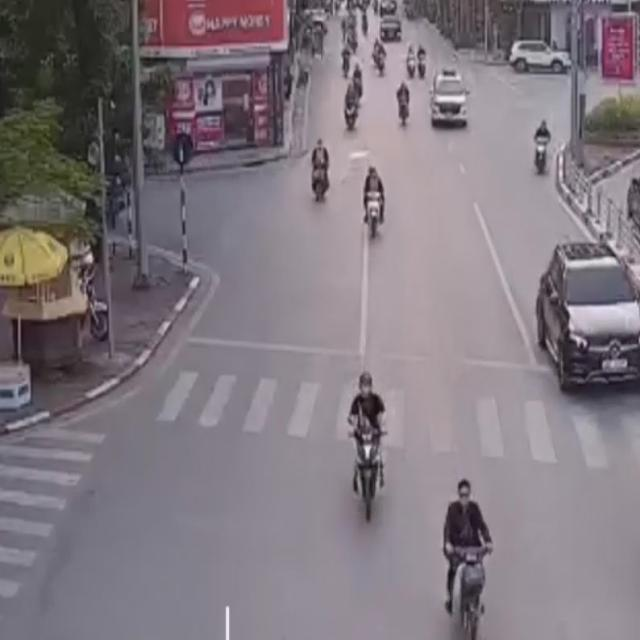car: (530, 238, 640, 398), (430, 67, 470, 130)
motorbike: (437, 475, 492, 640), (345, 370, 391, 534), (360, 160, 390, 245), (309, 131, 333, 208), (532, 114, 556, 174), (341, 82, 361, 134), (395, 74, 414, 127)
